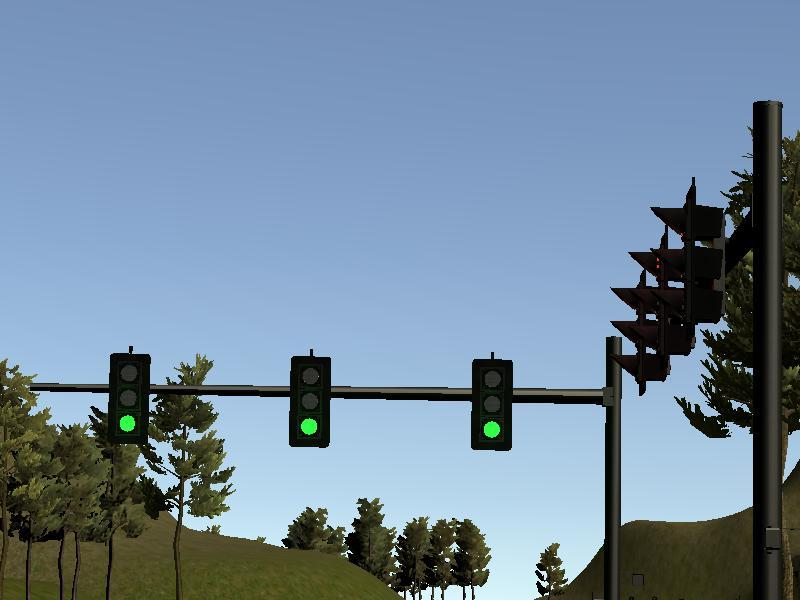Green: (473, 359, 512, 448), (110, 354, 148, 441), (291, 358, 326, 446)
